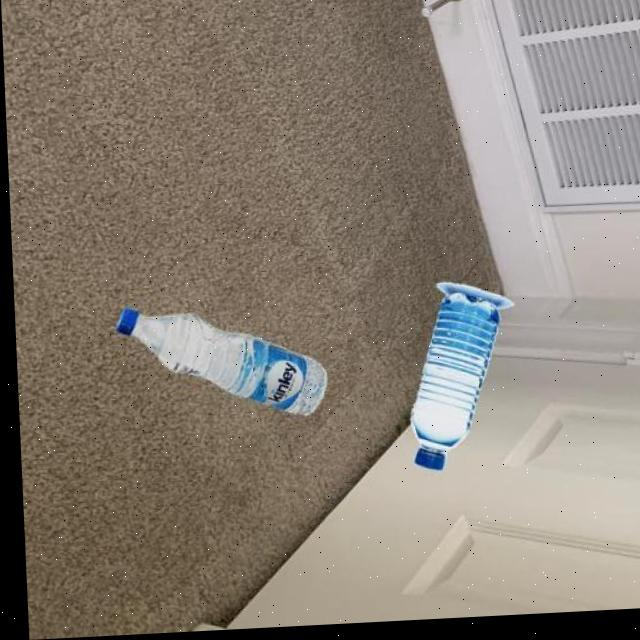bottle: (111, 298, 326, 427), (398, 282, 519, 477)
